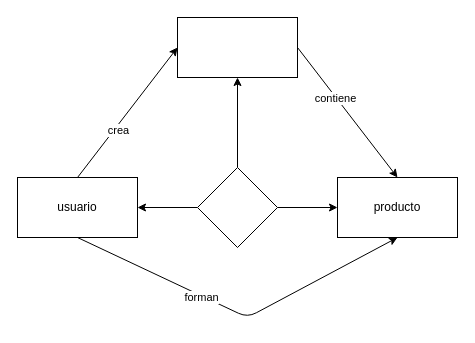
The diagram is 475 pixels wide and 343 high, and some of its shapes have lost their labels. Each missing label, with the centre of its shape:
"escanea" belongs at (237,207).
"listas" belongs at (237,47).
